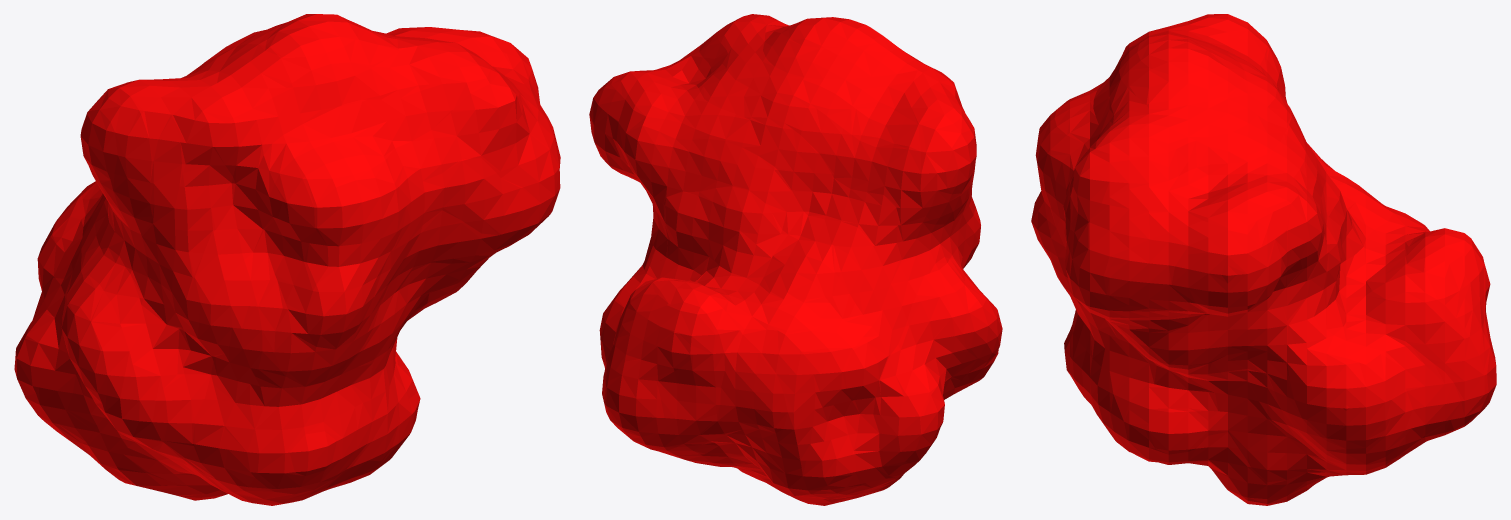
Rendered from argF_coarse.dae.
3 renders of one model, left to right at view 1: azimuth 30°, elevation 25°; view 2: azimuth 150°, elevation 25°; view 3: azimuth 270°, elevation 25°, orthographic. The views are drawn at different scales.
Parts seen in each view (by area): view 1: argF; view 2: argF; view 3: argF.
Part boxes in pixels (left/top/right/bottom): argF: left=14, top=14, right=560, bottom=505; argF: left=589, top=14, right=1002, bottom=505; argF: left=1031, top=14, right=1496, bottom=505.
Bounding box in the file's own units: 55.5 × 57.72 × 53.81.
